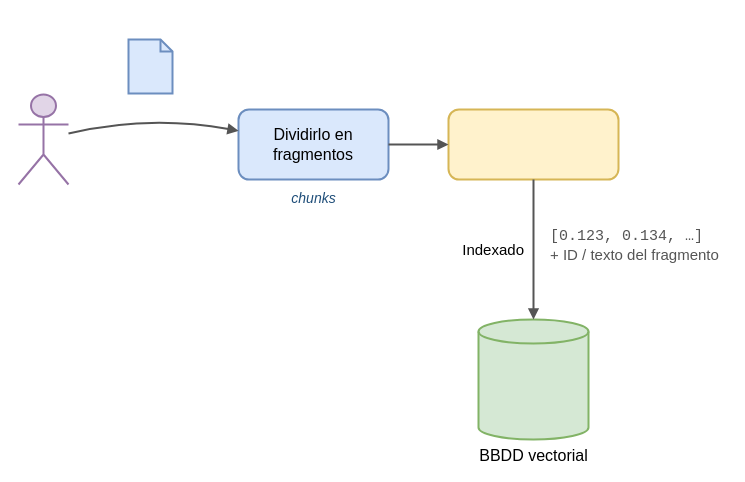
This 745x482 diagram has some shape labels left out. Here are the shapes that lost their labels. From the top down, the box of each, then its label:
(127, 38, 173, 94): Contenido
(447, 108, 619, 180): Generación de embedding
